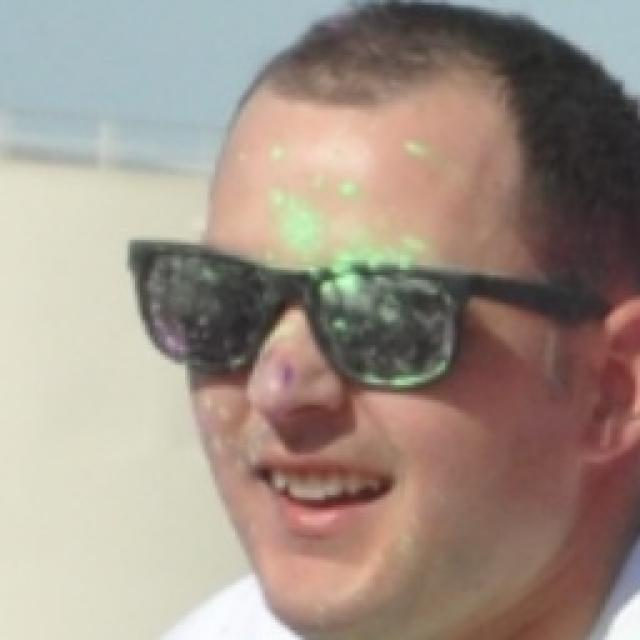glasses: (116, 218, 612, 400)
